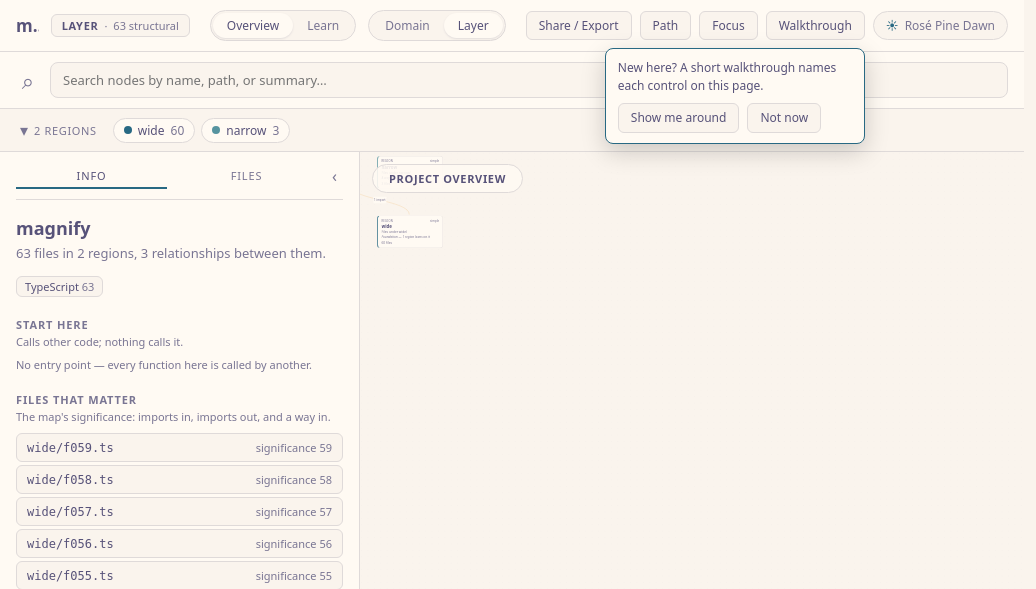
Scenario: magnify draws the neighbourhood › magnifies a file with no relating edges to itself alone, and says so
Type "narrow/f002.ts" into the search field labelled "Search nodes". click: (529,80)
box: [50, 62, 1008, 98]
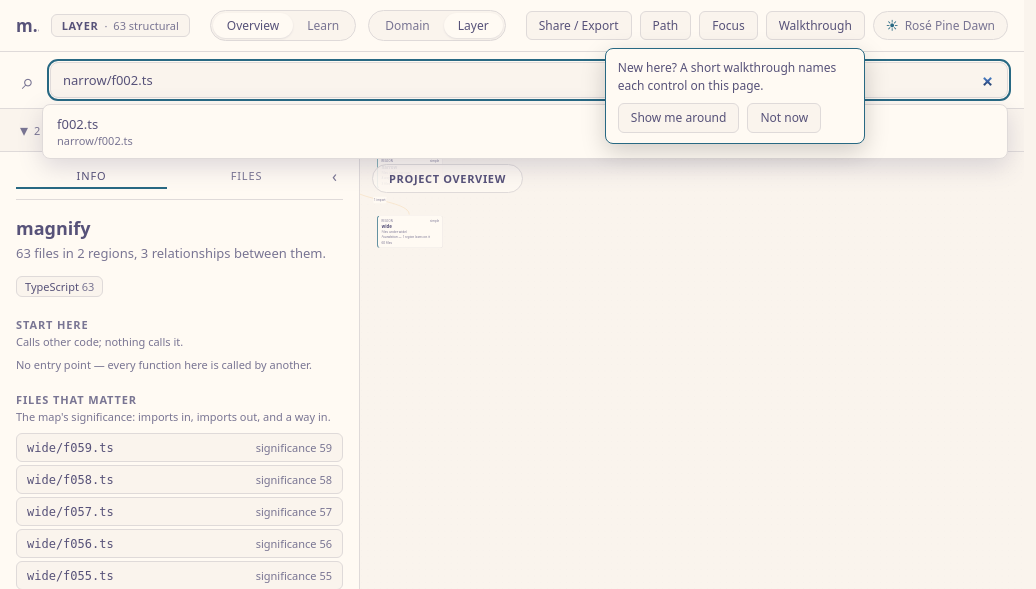
Click the text "narrow/f002.ts". click: (95,140)
box: [57, 133, 133, 148]
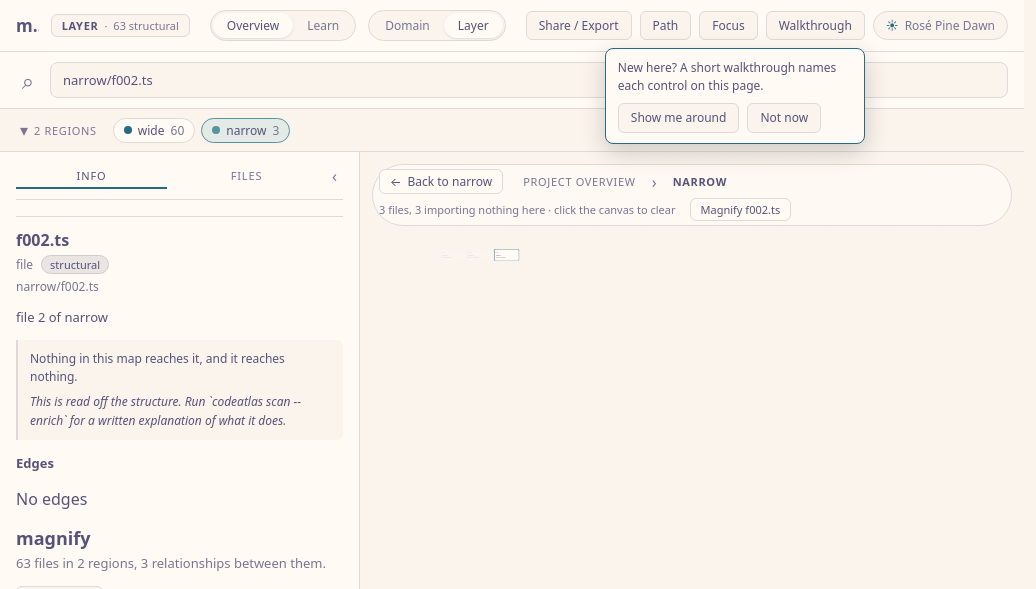
Clear the search field named "Search nodes". click: (529,80)
box: [50, 62, 1008, 98]
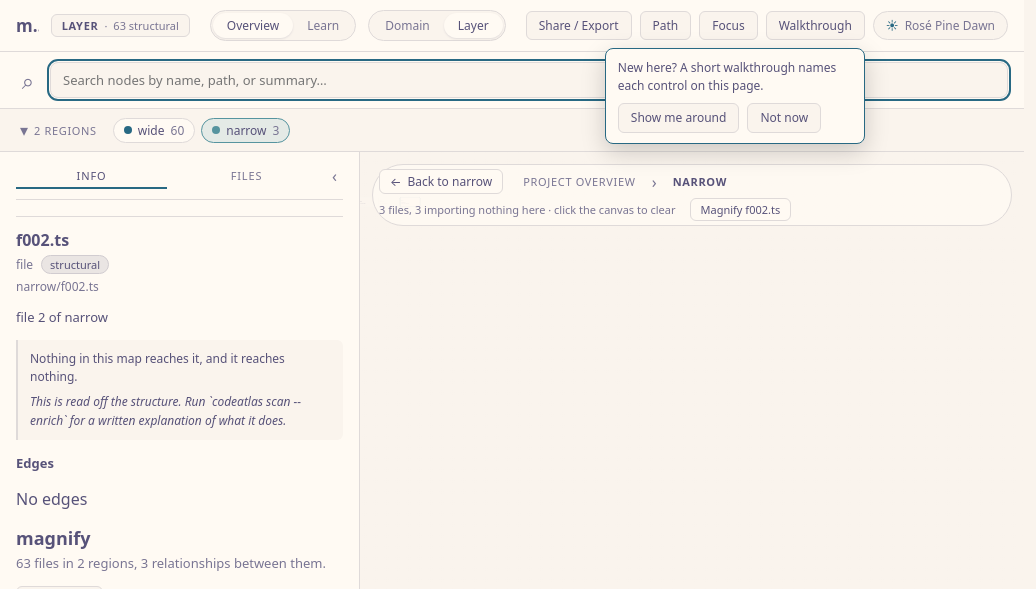
Click the button "Magnify f002.ts". click: (740,210)
box: [690, 198, 791, 221]
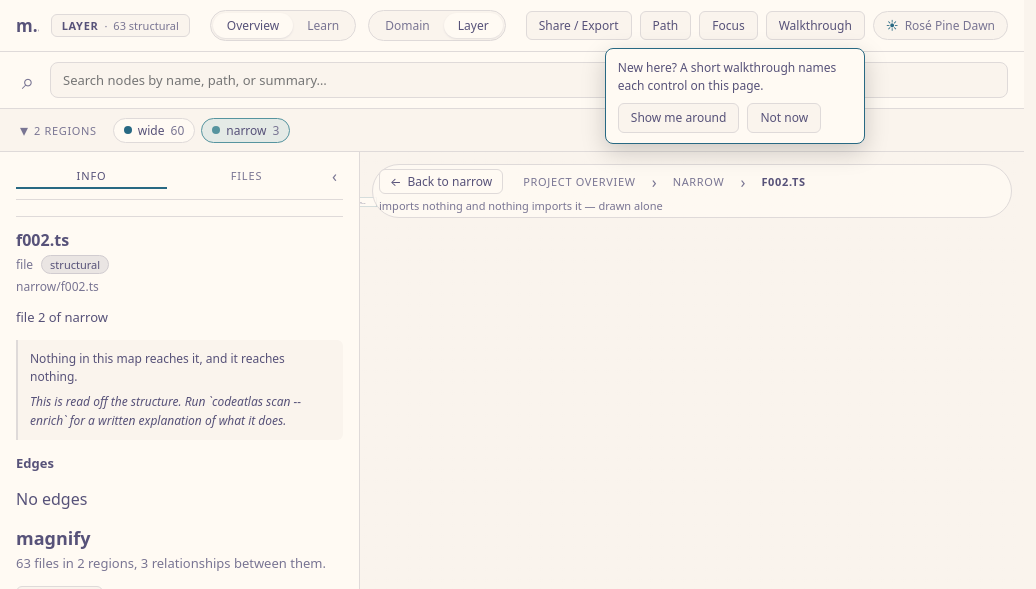
Expected: the text with class "crumb-note" shows "imports nothing and nothing imports it", [379, 198, 663, 213]
